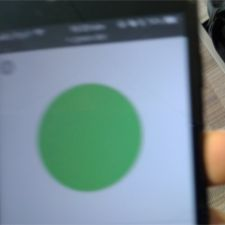focus: (30, 81, 152, 201)
